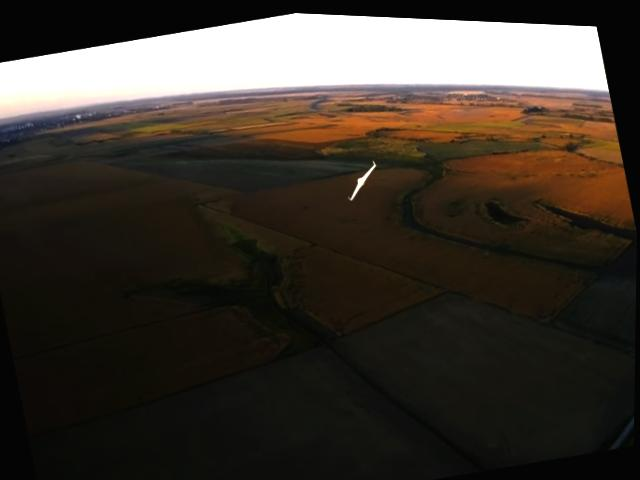plane: (341, 155, 382, 200)
